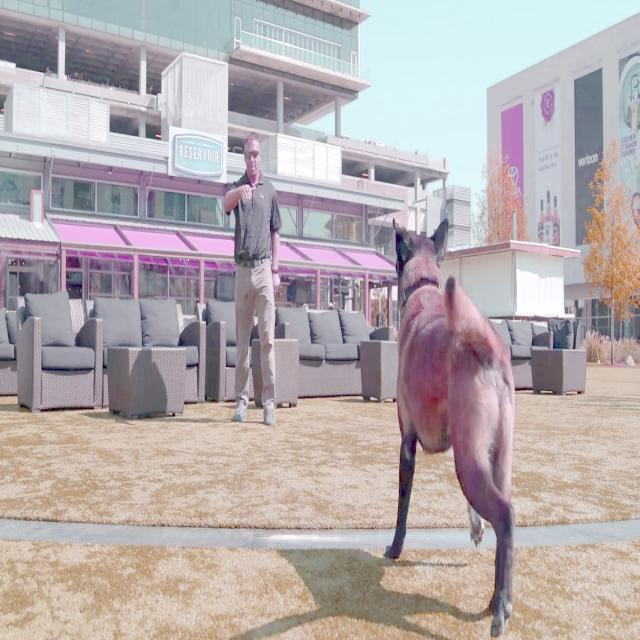Unleashed_Dog: (254, 216, 516, 634)
